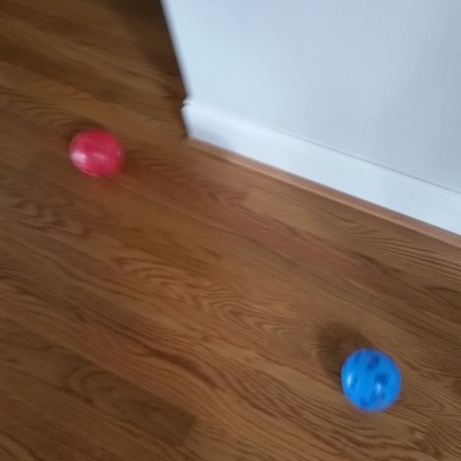ball: (334, 344, 408, 419), (63, 123, 128, 182)
